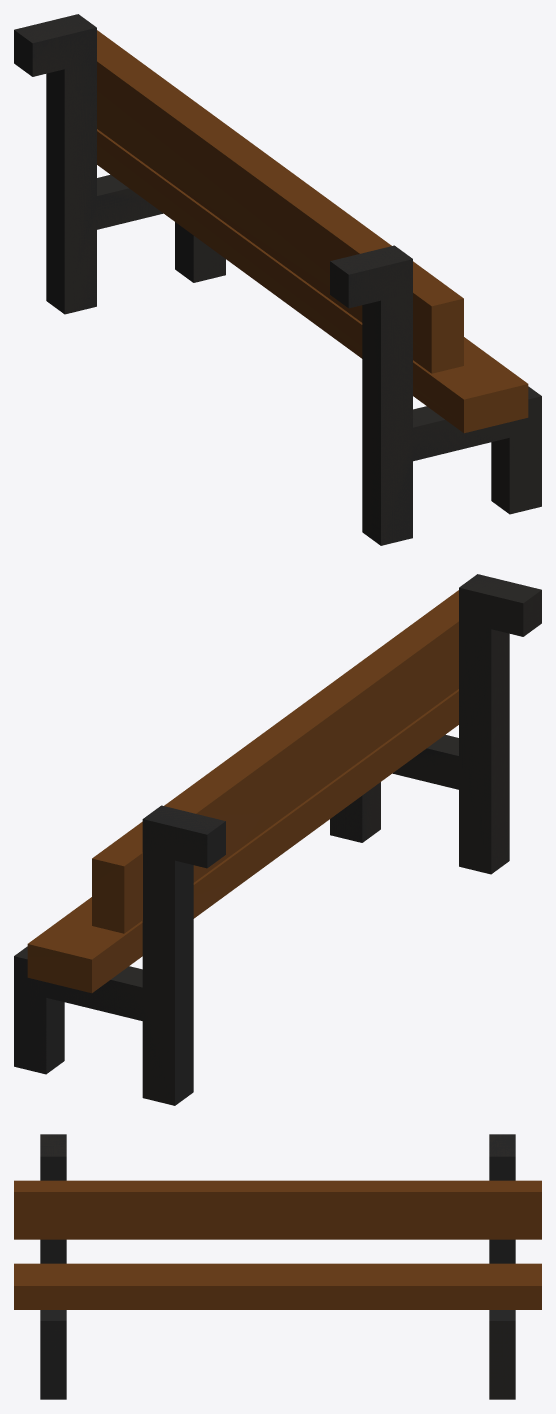
The model's file is Lavka_B3G_1_01.FBX.
3 views of the same model, one above another, from view 1: azimuth 30°, elevation 25°; view 2: azimuth 150°, elevation 25°; view 3: azimuth 270°, elevation 25° (orthographic). The views are drawn at different scales.
Visible parts, largest first — view 1: Lavka_B3G_Live_1_01, Lavka_B3G_Damage_1_01, Lavka_B3G_Damage_1_04, Lavka_B3G_Damage_1_02, Lavka_B3G_Damage_1_03; view 2: Lavka_B3G_Live_1_01, Lavka_B3G_Damage_1_01, Lavka_B3G_Damage_1_04, Lavka_B3G_Damage_1_02, Lavka_B3G_Damage_1_03; view 3: Lavka_B3G_Live_1_01, Lavka_B3G_Damage_1_02, Lavka_B3G_Damage_1_01.
Part boxes in pixels (x1=…): Lavka_B3G_Live_1_01: x1=14, y1=14, x2=541, y2=545; Lavka_B3G_Damage_1_01: x1=330, y1=245, x2=541, y2=545; Lavka_B3G_Damage_1_04: x1=97, y1=61, x2=463, y2=373; Lavka_B3G_Damage_1_02: x1=14, y1=14, x2=225, y2=314; Lavka_B3G_Damage_1_03: x1=97, y1=131, x2=526, y2=432; Lavka_B3G_Live_1_01: x1=14, y1=574, x2=536, y2=1105; Lavka_B3G_Damage_1_01: x1=330, y1=574, x2=541, y2=874; Lavka_B3G_Damage_1_04: x1=92, y1=621, x2=458, y2=933; Lavka_B3G_Damage_1_02: x1=14, y1=805, x2=225, y2=1105; Lavka_B3G_Damage_1_03: x1=27, y1=691, x2=458, y2=993; Lavka_B3G_Live_1_01: x1=14, y1=1134, x2=541, y2=1399; Lavka_B3G_Damage_1_02: x1=489, y1=1134, x2=515, y2=1399; Lavka_B3G_Damage_1_01: x1=40, y1=1134, x2=66, y2=1346.
Size of the model in its own units: 0.9449 by 3.15 by 1.3.
